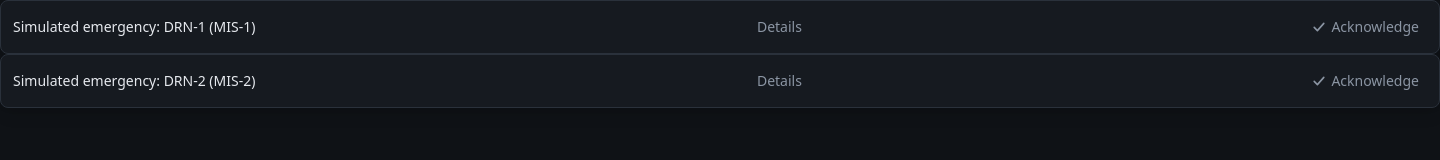
Test: LiveDataNotices emergencies › expands each row independently
The image size is (1440, 160).
Click the button with aria-label "Show details for DRN-2": (779,81) [749,61,810,101]
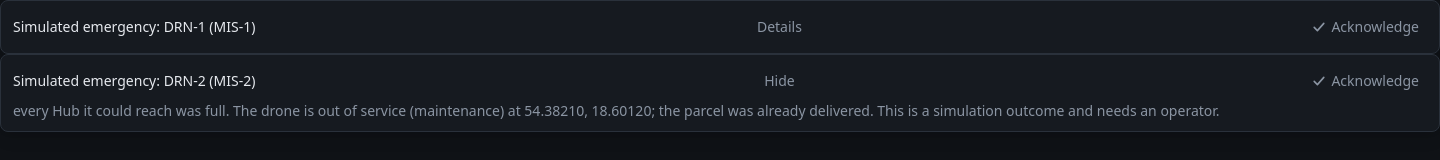
Result: the text "out of service" is shown once at [13,101,1427,125]
